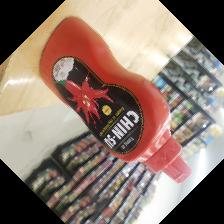Chinsu: (38, 15, 191, 185)
